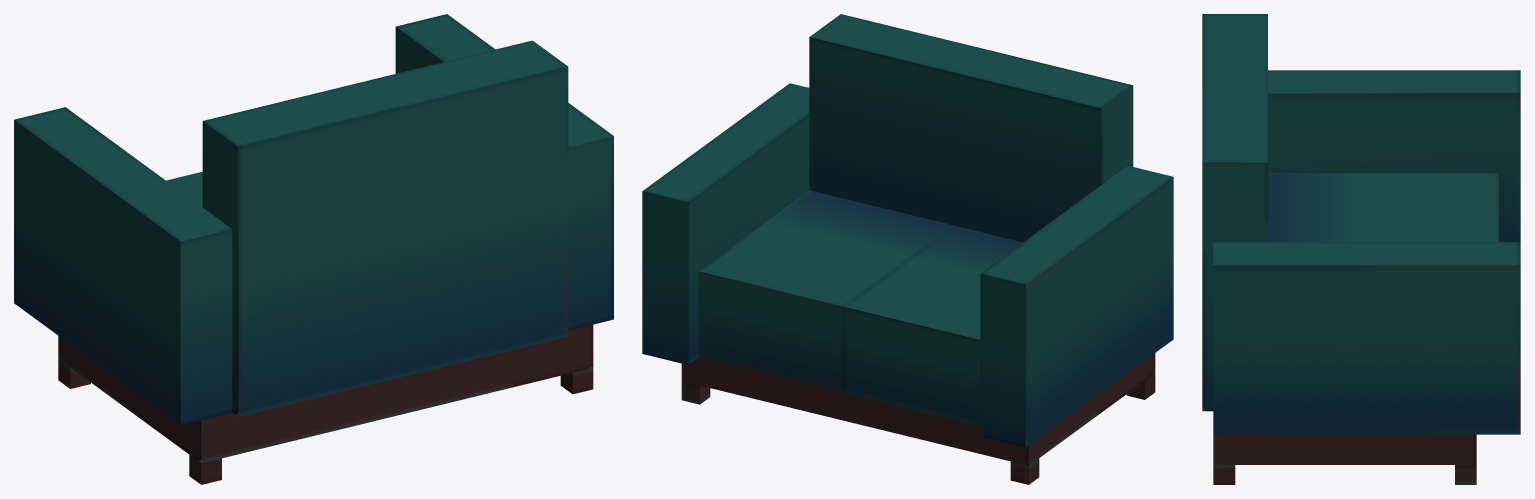
Rendered from Sofa.fbx.
The picture shows the model from 3 angles, left to right: view 1: azimuth 30°, elevation 25°; view 2: azimuth 150°, elevation 25°; view 3: azimuth 270°, elevation 25°; orthographic projection. The views are drawn at different scales.
Visible parts, largest first — view 1: back, armrest2, cube_4, armrest1, cube_2, asscheek2, cube_3; view 2: back, armrest2, asscheek1, armrest1, asscheek2, cube_4, cube_1; view 3: armrest1, armrest2, back, asscheek2, cube_4, cube_3, cube.
Boxes of the visible parts, bbox=[...] form: back: bbox=[202, 40, 568, 416]; armrest2: bbox=[14, 107, 232, 424]; cube_4: bbox=[58, 324, 593, 463]; armrest1: bbox=[395, 14, 613, 330]; cube_2: bbox=[189, 455, 221, 484]; asscheek2: bbox=[166, 171, 202, 206]; cube_3: bbox=[560, 366, 593, 394]; back: bbox=[809, 14, 1133, 242]; armrest2: bbox=[980, 165, 1173, 447]; asscheek1: bbox=[698, 190, 954, 392]; armrest1: bbox=[642, 83, 809, 364]; asscheek2: bbox=[844, 226, 1022, 425]; cube_4: bbox=[681, 353, 1155, 465]; cube_1: bbox=[1010, 458, 1039, 484]; armrest1: bbox=[1213, 242, 1520, 434]; armrest2: bbox=[1268, 70, 1520, 241]; back: bbox=[1202, 14, 1267, 411]; asscheek2: bbox=[1268, 173, 1498, 241]; cube_4: bbox=[1213, 434, 1476, 464]; cube_3: bbox=[1213, 465, 1235, 484]; cube: bbox=[1455, 465, 1476, 484].
Size of the model in its own units: 262 by 194 by 181.
Materials: 1 (1 with a texture image).
